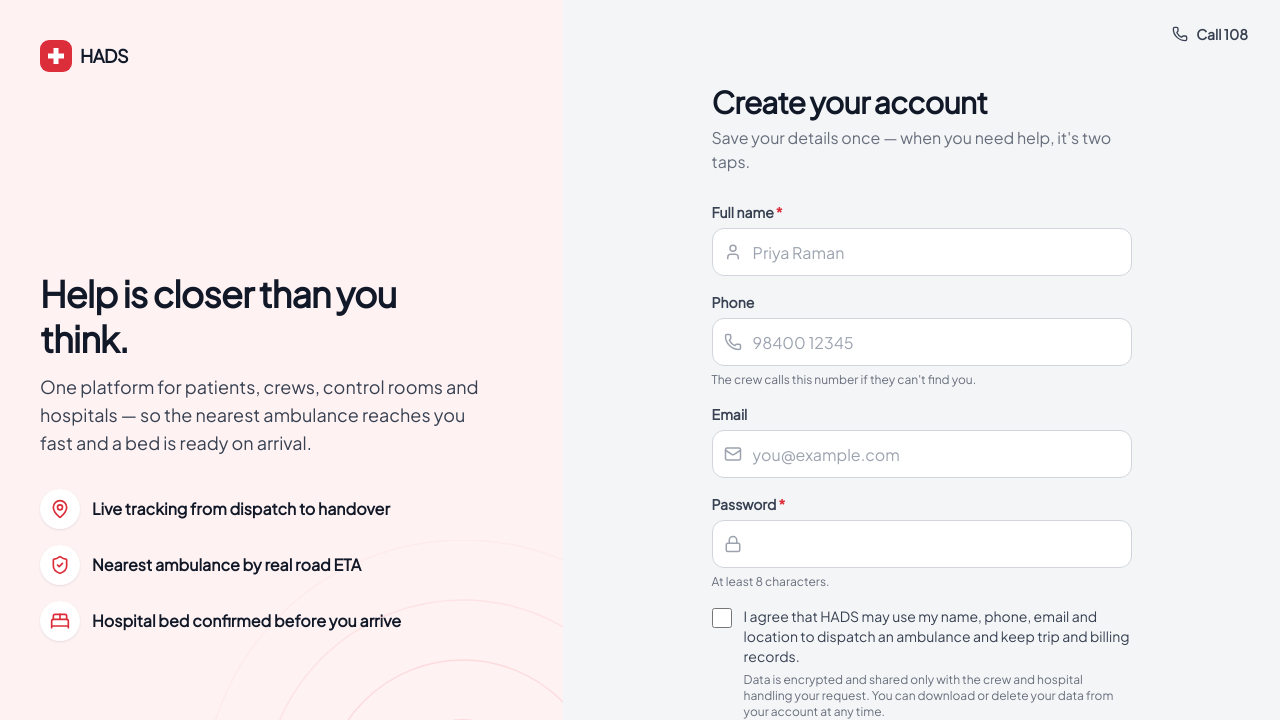
<Register> privacy consent › blocks sign-up until the privacy notice is accepted
Step 1. Type "Kavya" into the field labelled "Full name*" → (922, 252), box [712, 228, 1132, 276]
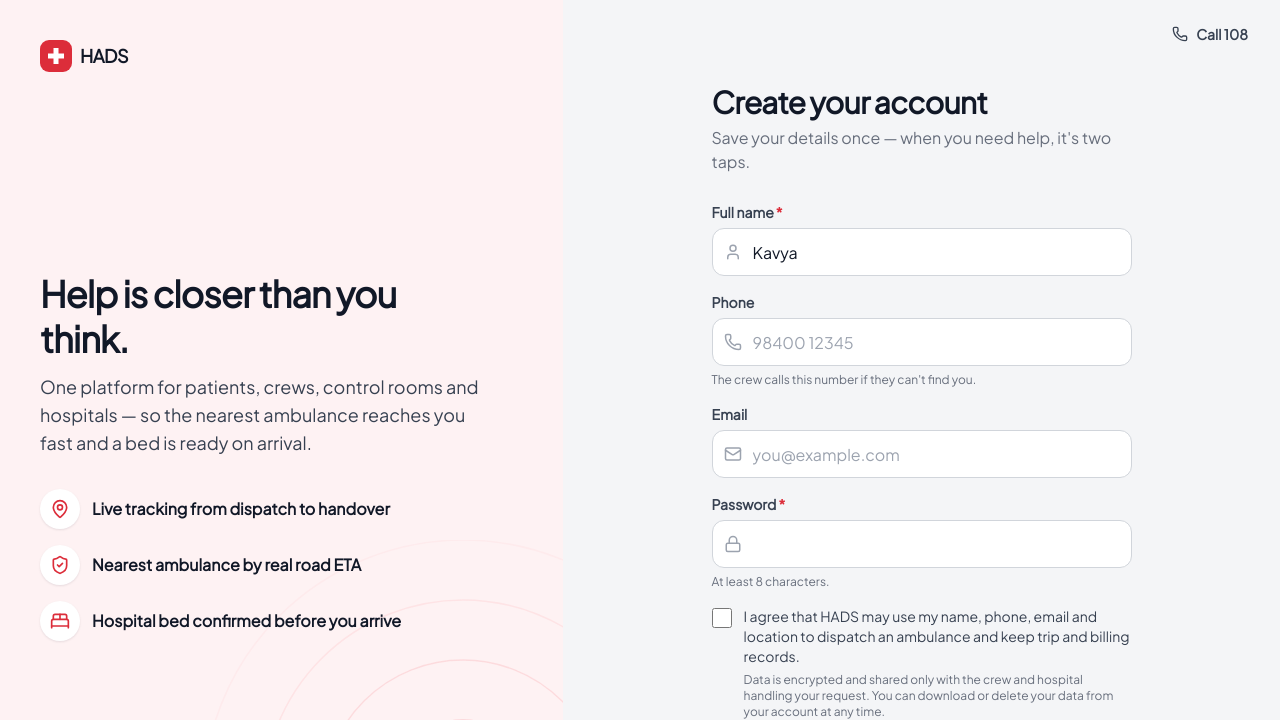
Step 2. Type "kavya@example.com" into the field labelled "Email" → (922, 454), box [712, 430, 1132, 478]
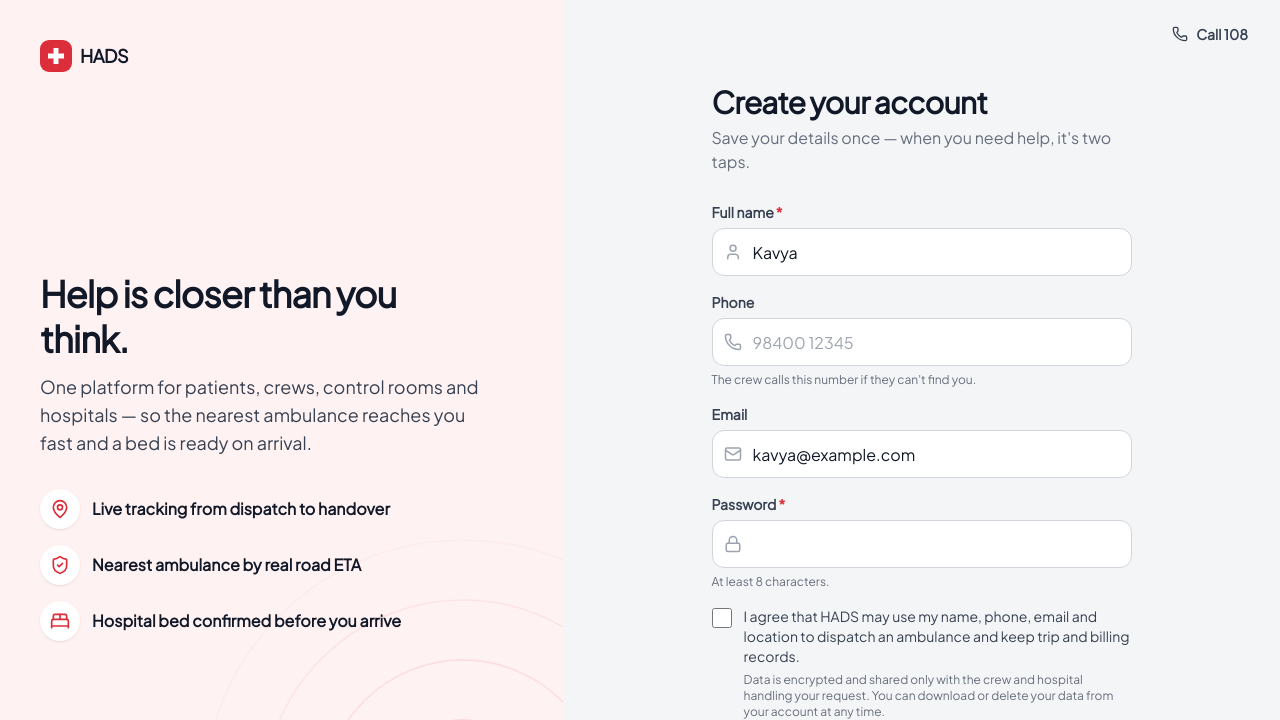
Step 3. Type "password123" into the password field labelled "Password*" → (922, 544), box [712, 520, 1132, 568]
(page scrolled)
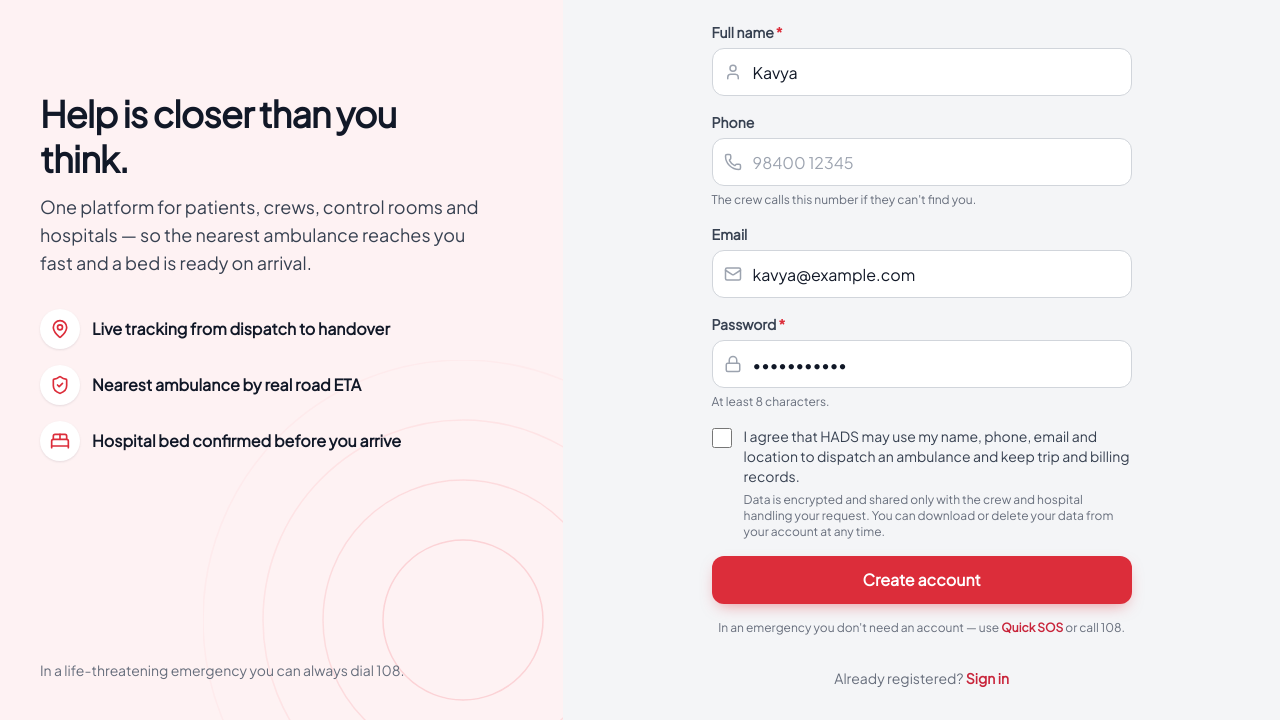
Step 4. Click the button "Create account" → (922, 580), box [712, 556, 1132, 604]
(page scrolled)
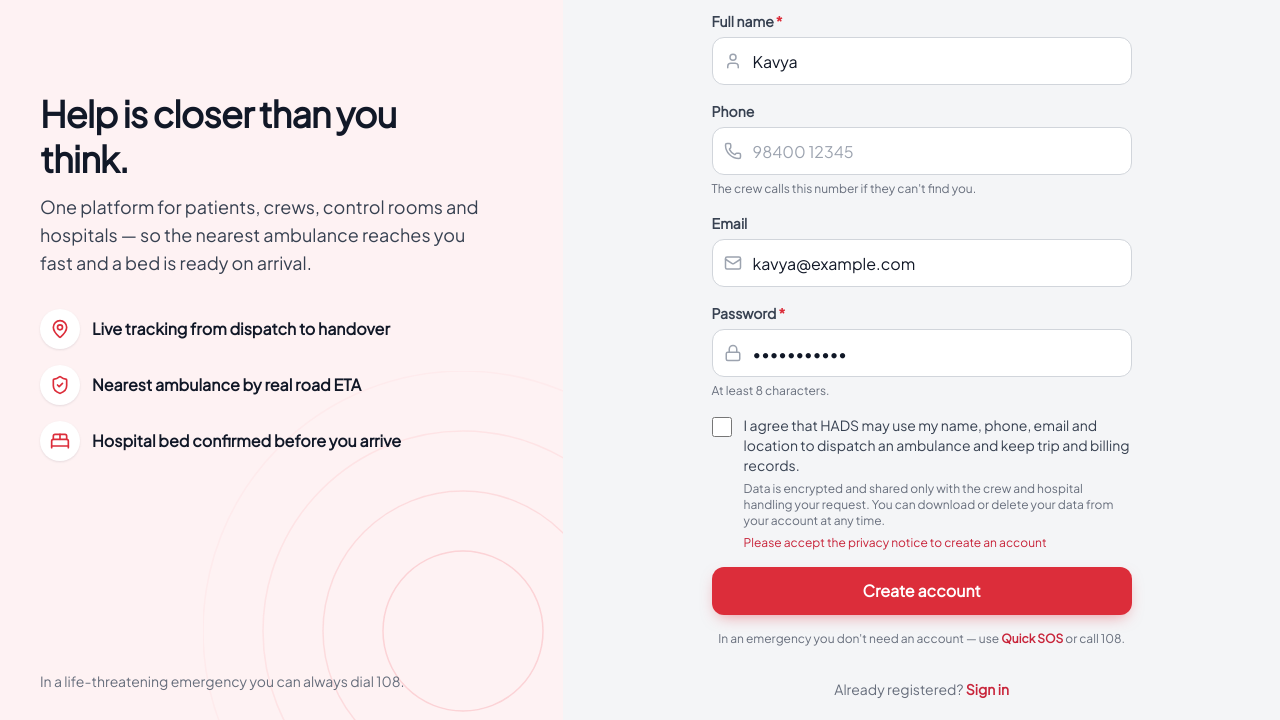
Now the text "Please accept the privacy notice to create an account" is shown, box [744, 535, 1047, 550]
